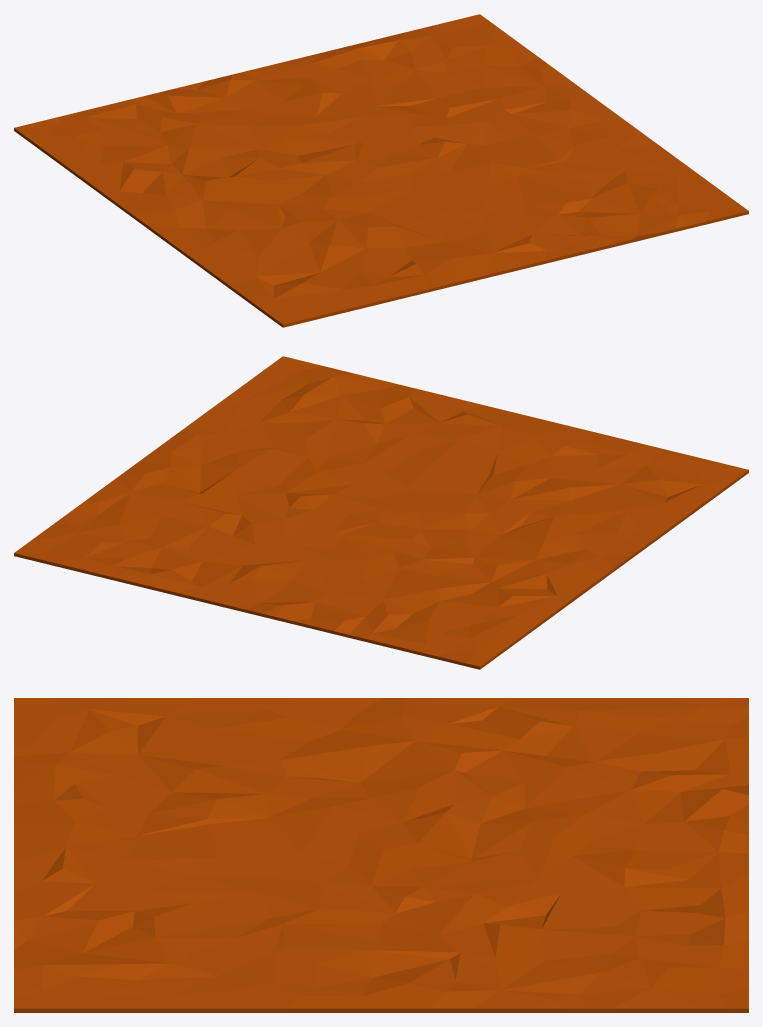
The model's file is PlanetFloorRed_01.glb.
3 views of the same model, one above another, from view 1: azimuth 30°, elevation 25°; view 2: azimuth 150°, elevation 25°; view 3: azimuth 270°, elevation 25° (orthographic). The views are drawn at different scales.
Parts seen in each view (by area): view 1: PlanetFloorRed_01; view 2: PlanetFloorRed_01; view 3: PlanetFloorRed_01.
Boxes of the visible parts, bbox=[...] form: PlanetFloorRed_01: bbox=[14, 14, 748, 327]; PlanetFloorRed_01: bbox=[14, 356, 748, 669]; PlanetFloorRed_01: bbox=[14, 698, 748, 1012].
Size of what is drawn, in the model's own units: 16 by 0.2405 by 16.
1 material, 1 textured.
